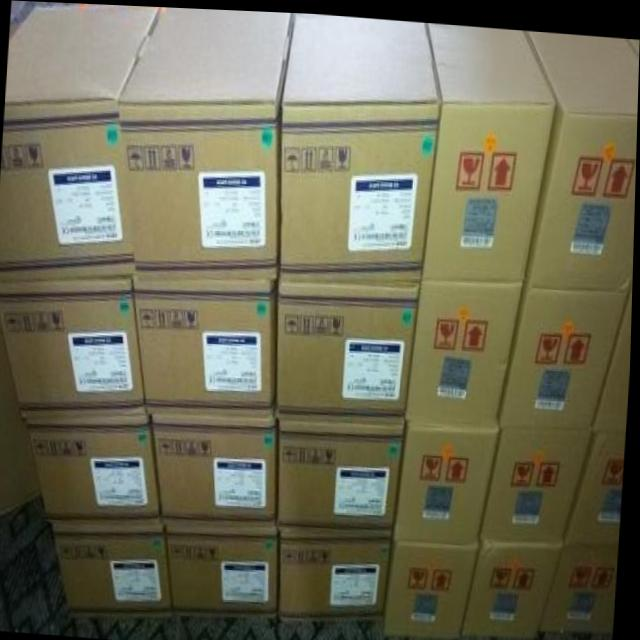box: (118, 6, 294, 278), (0, 6, 160, 283), (280, 10, 442, 279), (423, 19, 555, 277), (526, 25, 639, 285), (0, 280, 148, 420), (279, 278, 422, 419), (134, 277, 278, 414), (499, 278, 630, 423), (408, 278, 525, 423), (26, 412, 164, 522), (279, 417, 408, 529), (153, 414, 279, 525), (482, 424, 594, 540), (398, 421, 500, 542), (53, 524, 174, 616), (280, 528, 394, 618), (167, 524, 279, 615), (385, 529, 480, 635), (464, 541, 563, 633), (565, 426, 628, 541), (542, 539, 621, 626)
